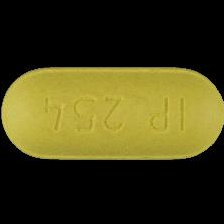63187-686: (0, 0, 224, 224)
